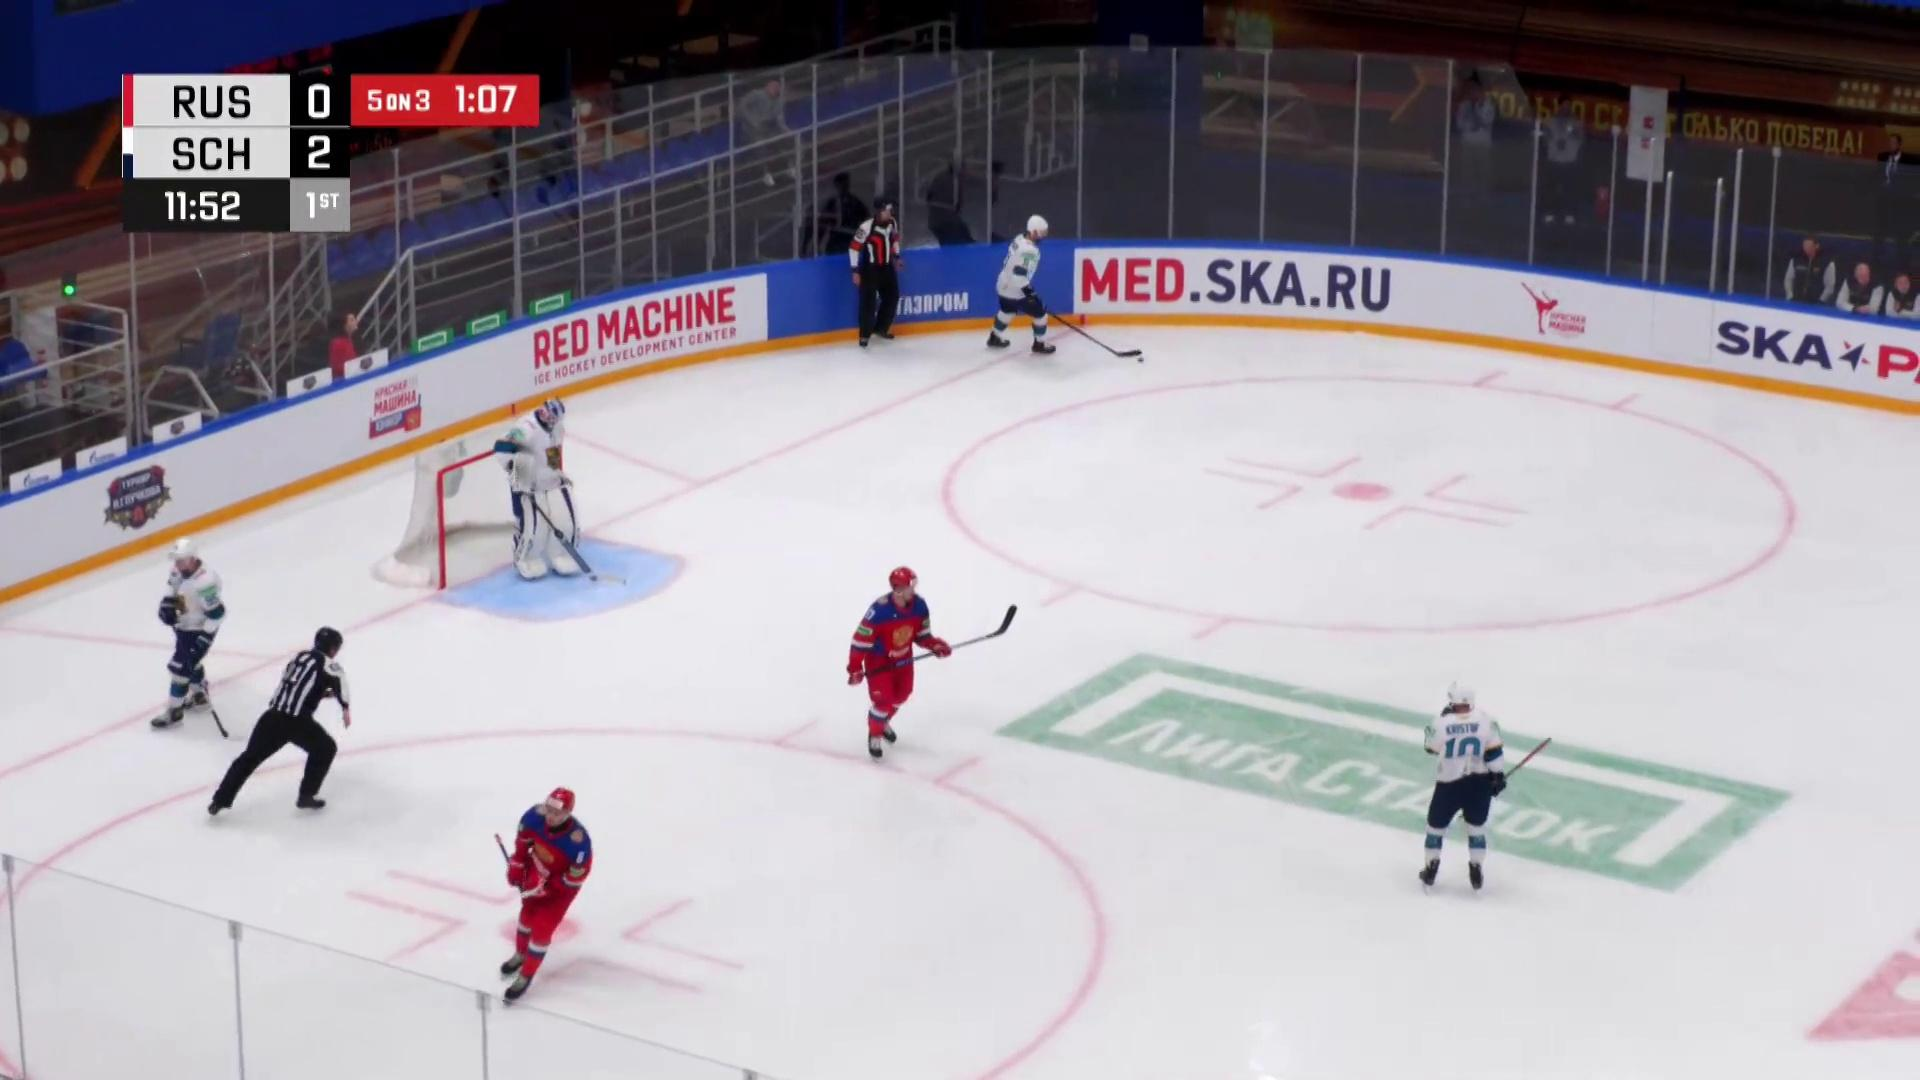ball: (1137, 357, 1145, 364)
